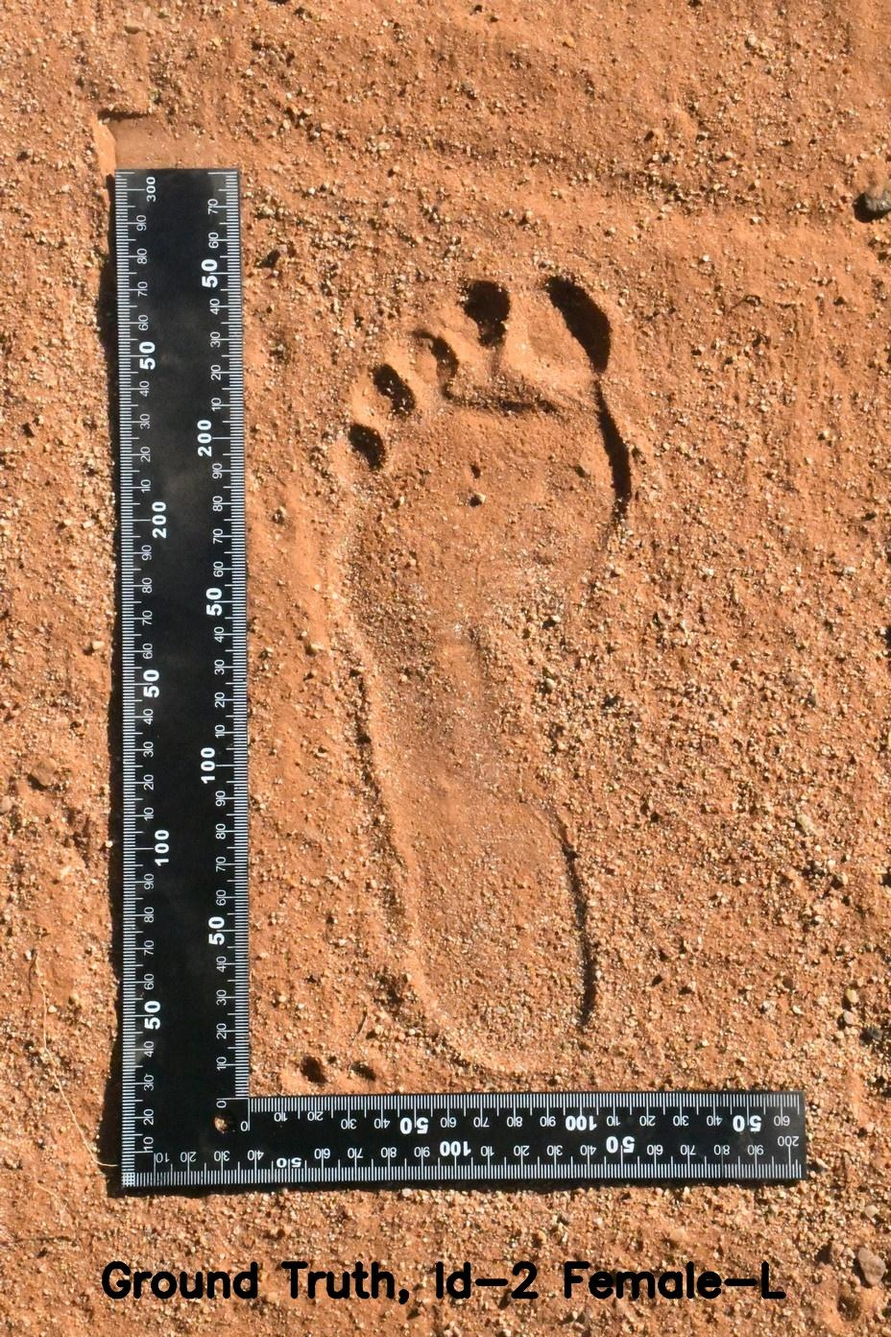human_footprint: (285, 215, 673, 1085)
